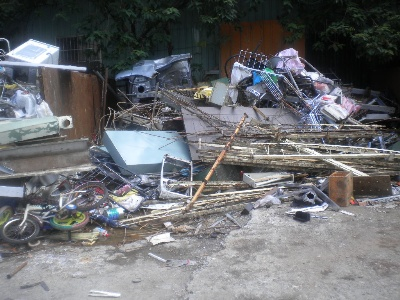bucket: (328, 170, 356, 208)
